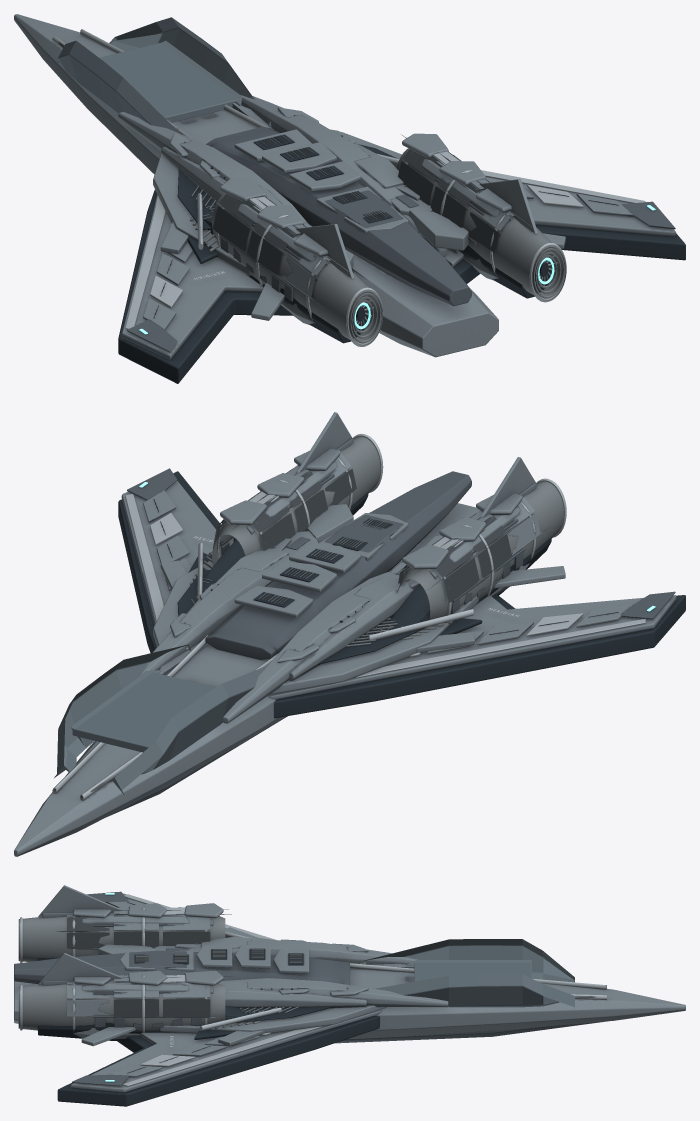
Rendered from meridian-exterior.glb.
The picture shows the model from 3 angles, top to bottom: view 1: azimuth 30°, elevation 25°; view 2: azimuth 150°, elevation 25°; view 3: azimuth 270°, elevation 25°; orthographic projection. The views are drawn at different scales.
Parts seen in each view (by area): view 1: 01 • titanium ceramic armour, 03 • graphite access panels, 04 • recessed carbon structure, 12 / flight-deck structural cradle, 07 • turbine alloy, 02 • worn silver edge alloy; view 2: 01 • titanium ceramic armour, 04 • recessed carbon structure, 03 • graphite access panels, 12 / flight-deck structural cradle, 02 • worn silver edge alloy, 07 • turbine alloy; view 3: 01 • titanium ceramic armour, 12 / flight-deck structural cradle, 04 • recessed carbon structure, 07 • turbine alloy, 03 • graphite access panels, 02 • worn silver edge alloy.
Boxes of the visible parts, x1=… form: 01 • titanium ceramic armour: x1=14, y1=14, x2=676, y2=359; 03 • graphite access panels: x1=127, y1=126, x2=675, y2=352; 04 • recessed carbon structure: x1=118, y1=134, x2=685, y2=383; 12 / flight-deck structural cradle: x1=53, y1=17, x2=270, y2=133; 07 • turbine alloy: x1=184, y1=114, x2=566, y2=345; 02 • worn silver edge alloy: x1=52, y1=29, x2=645, y2=346; 01 • titanium ceramic armour: x1=14, y1=412, x2=676, y2=856; 04 • recessed carbon structure: x1=118, y1=471, x2=685, y2=718; 03 • graphite access panels: x1=108, y1=465, x2=675, y2=816; 12 / flight-deck structural cradle: x1=54, y1=644, x2=267, y2=795; 02 • worn silver edge alloy: x1=52, y1=433, x2=645, y2=800; 07 • turbine alloy: x1=184, y1=436, x2=564, y2=650; 01 • titanium ceramic armour: x1=14, y1=885, x2=685, y2=1092; 12 / flight-deck structural cradle: x1=363, y1=939, x2=574, y2=1009; 04 • recessed carbon structure: x1=38, y1=940, x2=379, y2=1106; 07 • turbine alloy: x1=18, y1=912, x2=348, y2=1030; 03 • graphite access panels: x1=14, y1=891, x2=606, y2=1086; 02 • worn silver edge alloy: x1=20, y1=894, x2=606, y2=1086.
Bounding box in the file's own units: 34.86 × 9.48 × 50.18.
9 materials, 5 textured.
